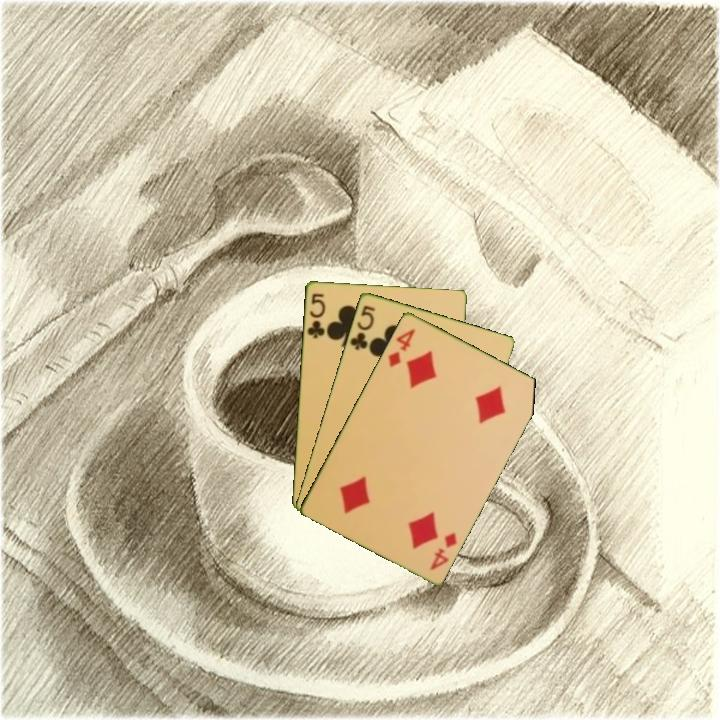4d: (384, 324, 418, 369), (426, 528, 460, 573)
5c: (347, 301, 378, 353), (303, 289, 328, 341)
